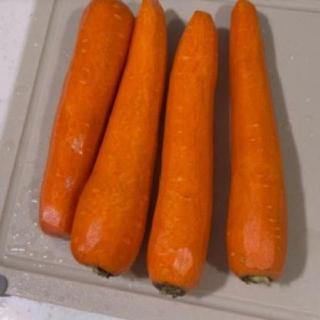carrot: (71, 3, 171, 283), (37, 2, 135, 244), (145, 10, 223, 304), (223, 0, 294, 284)
